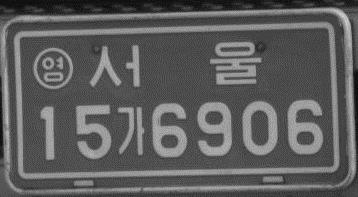0: (241, 99, 279, 156)
1: (35, 103, 61, 162)
5: (73, 102, 113, 161)
6: (286, 97, 324, 157), (150, 100, 188, 159)
9: (195, 100, 234, 158)
가: (114, 105, 147, 158)
서울_D: (86, 39, 262, 89)
영: (30, 45, 76, 90)
